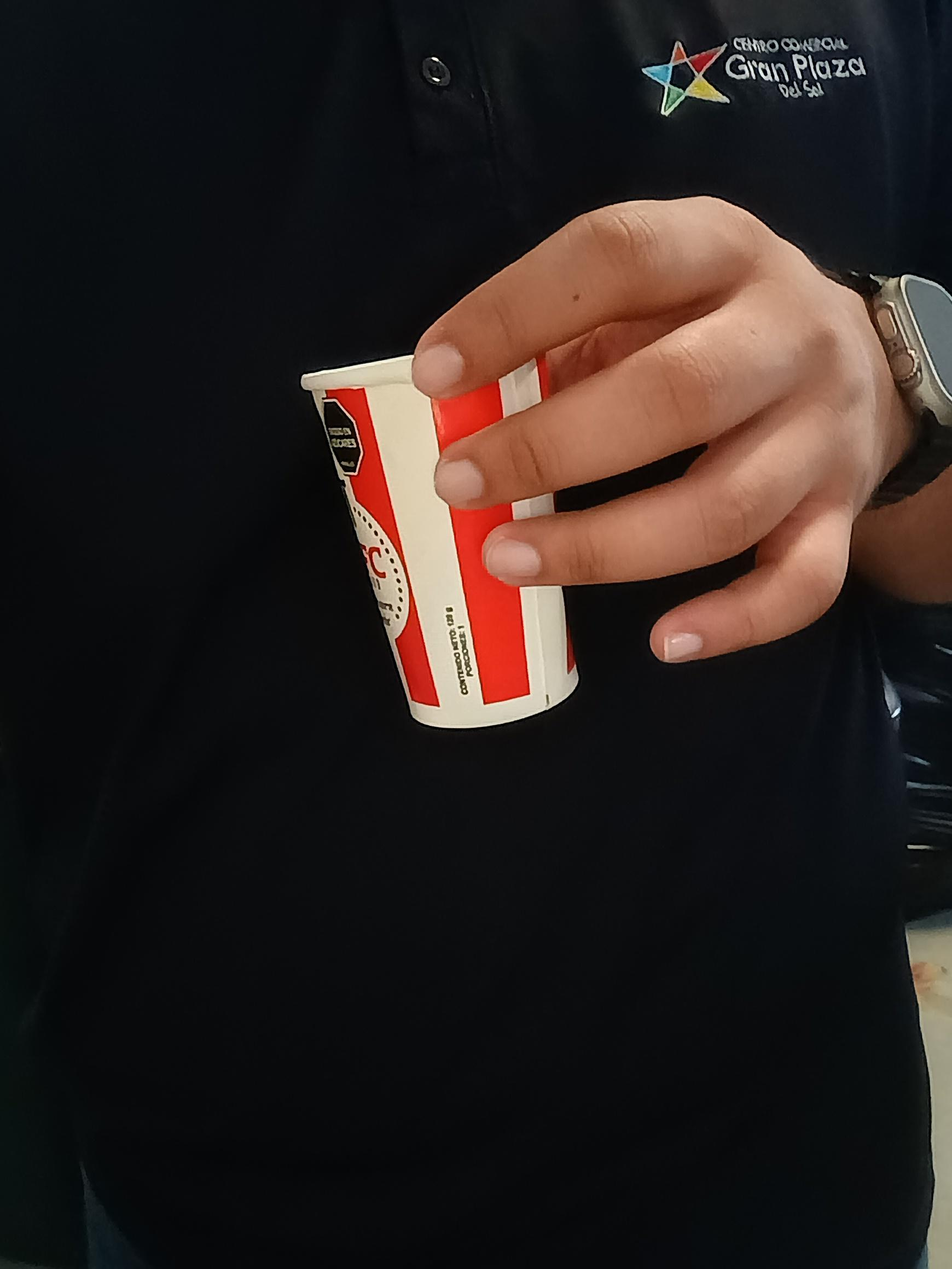Carton: (303, 349, 611, 731)
